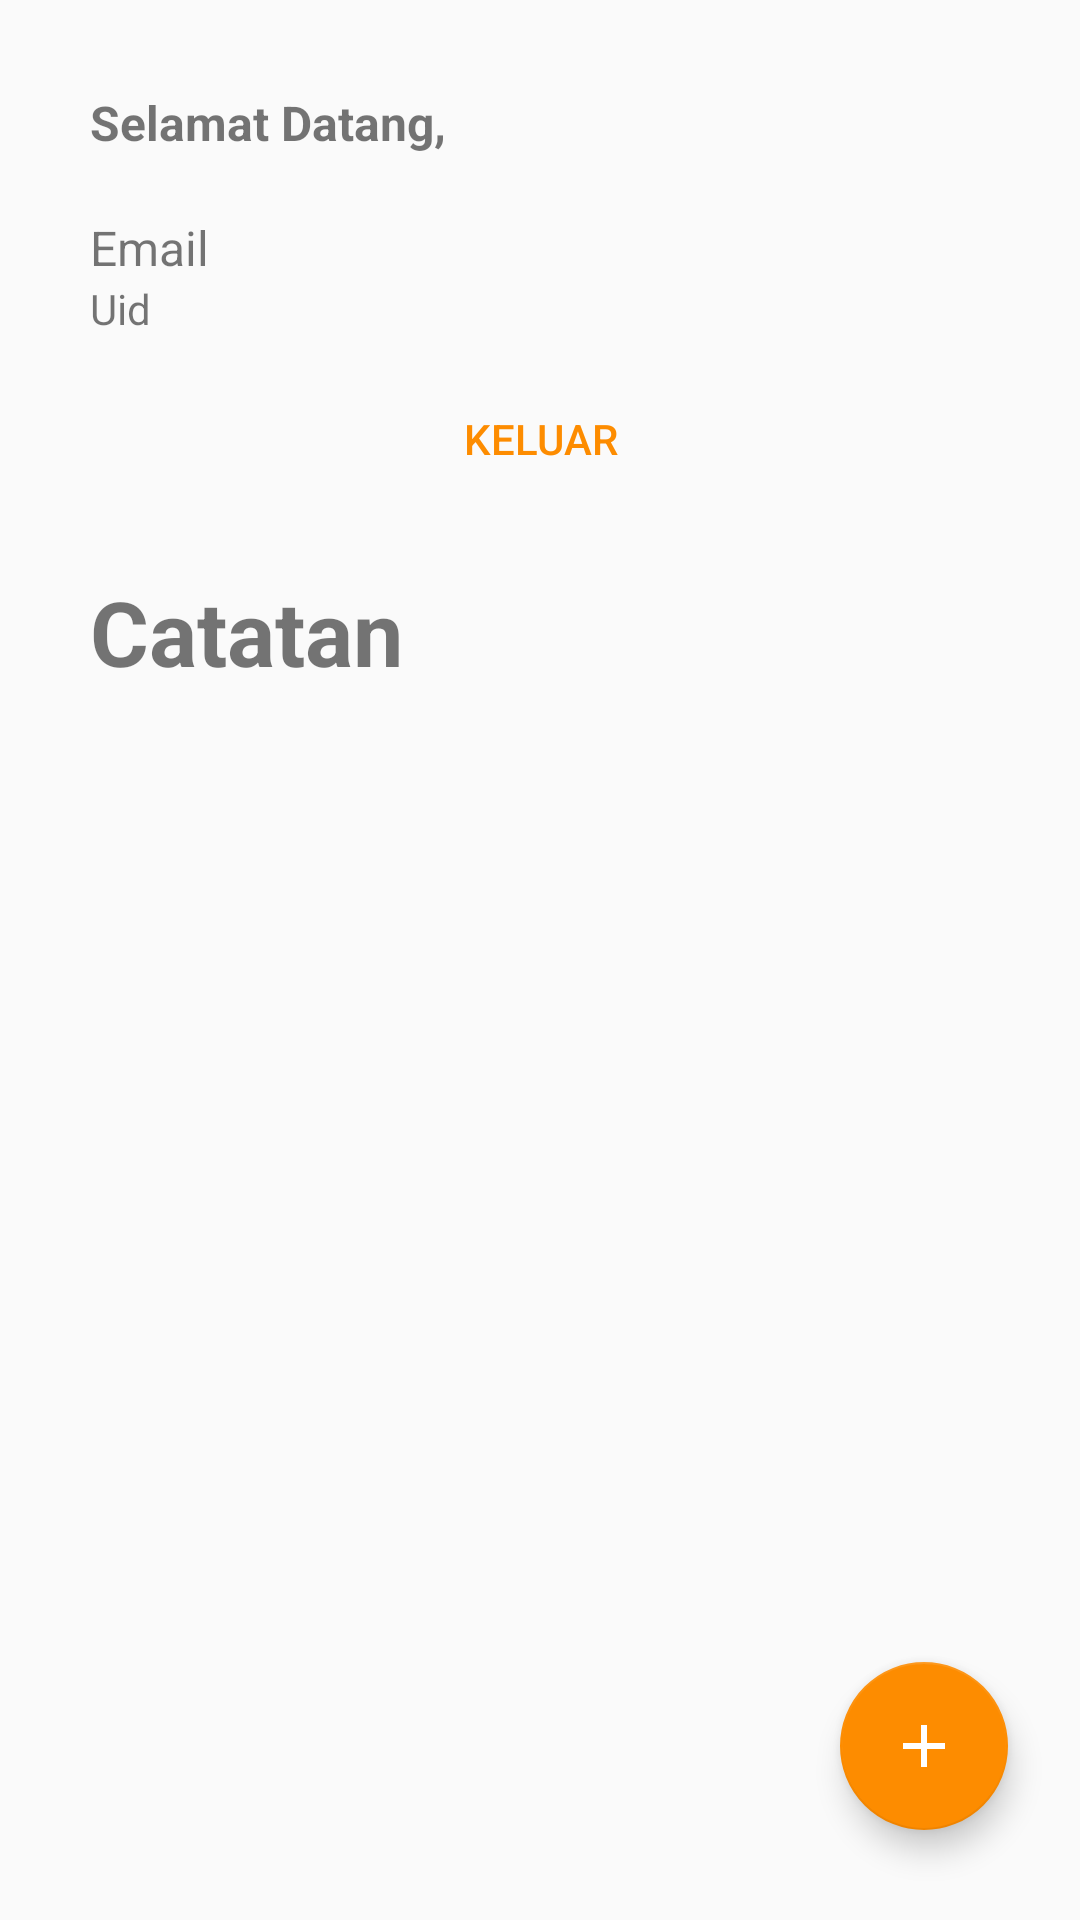

Where to tap for icons on this 1080 × 1920 app screen, as point (x, y):
add: point (924, 1746)
